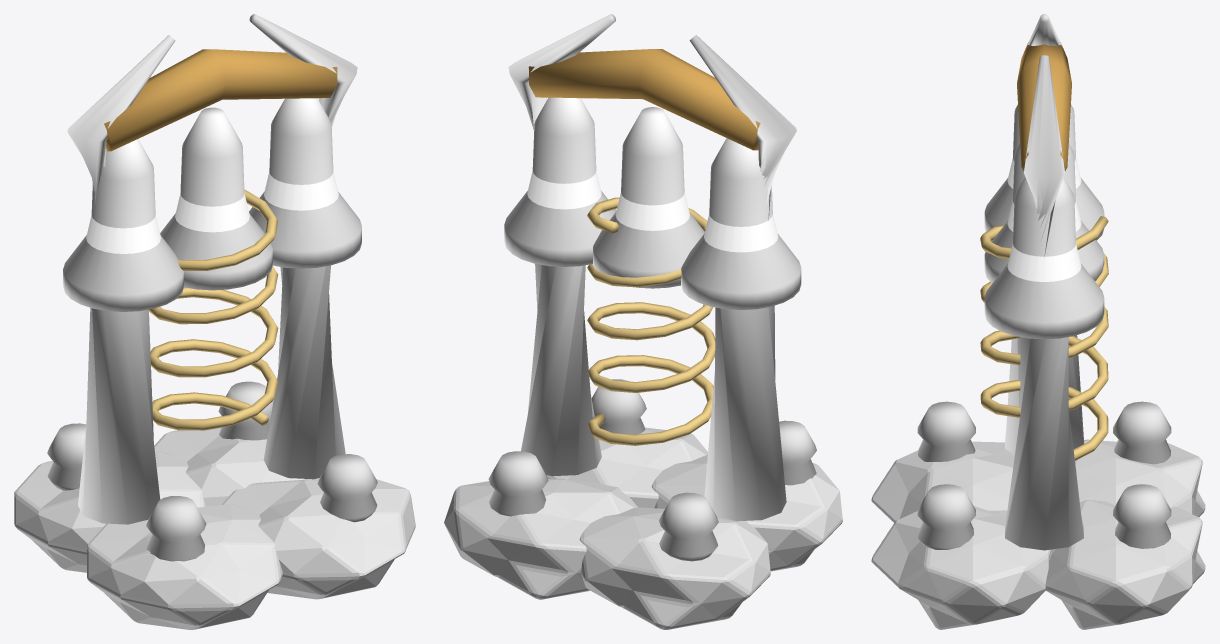
The model's file is storm-2.fbx.
The picture shows the model from 3 angles, left to right: view 1: azimuth 30°, elevation 25°; view 2: azimuth 150°, elevation 25°; view 3: azimuth 270°, elevation 25°; orthographic projection.
Parts seen in each view (by area): view 1: Base_Stone, Turret_Bark, Turret_Metal, CastBell, CastBell.002, CastBell.001, Base_Organic; view 2: Base_Stone, Turret_Bark, Turret_Metal, CastBell, CastBell.002, CastBell.001, Base_Organic; view 3: Base_Stone, Turret_Bark, CastBell.002, Base_Organic, Turret_Metal, CastBell.001, CastBell.
Boxes of the visible parts, box(x1,y1,x2,y2) form: Base_Stone: box(14, 427, 415, 629); Turret_Bark: box(67, 14, 357, 524); Turret_Metal: box(104, 49, 337, 430); CastBell: box(63, 139, 183, 311); CastBell.002: box(249, 98, 361, 268); CastBell.001: box(160, 107, 272, 290); Base_Organic: box(47, 381, 377, 561); Base_Stone: box(444, 427, 842, 629); Turret_Bark: box(508, 14, 796, 521); Turret_Metal: box(528, 49, 760, 445); CastBell: box(681, 138, 801, 309); CastBell.002: box(504, 97, 616, 266); CastBell.001: box(593, 107, 704, 288); Base_Organic: box(488, 379, 816, 561); Base_Stone: box(871, 439, 1205, 629); Turret_Bark: box(1005, 14, 1083, 550); CastBell.002: box(984, 177, 1104, 339); Base_Organic: box(917, 401, 1171, 549); Turret_Metal: box(980, 42, 1108, 460); CastBell.001: box(984, 143, 1104, 283); CastBell: box(984, 104, 1104, 240).
Bounding box in the file's own units: 76.43 × 131 × 72.59.
